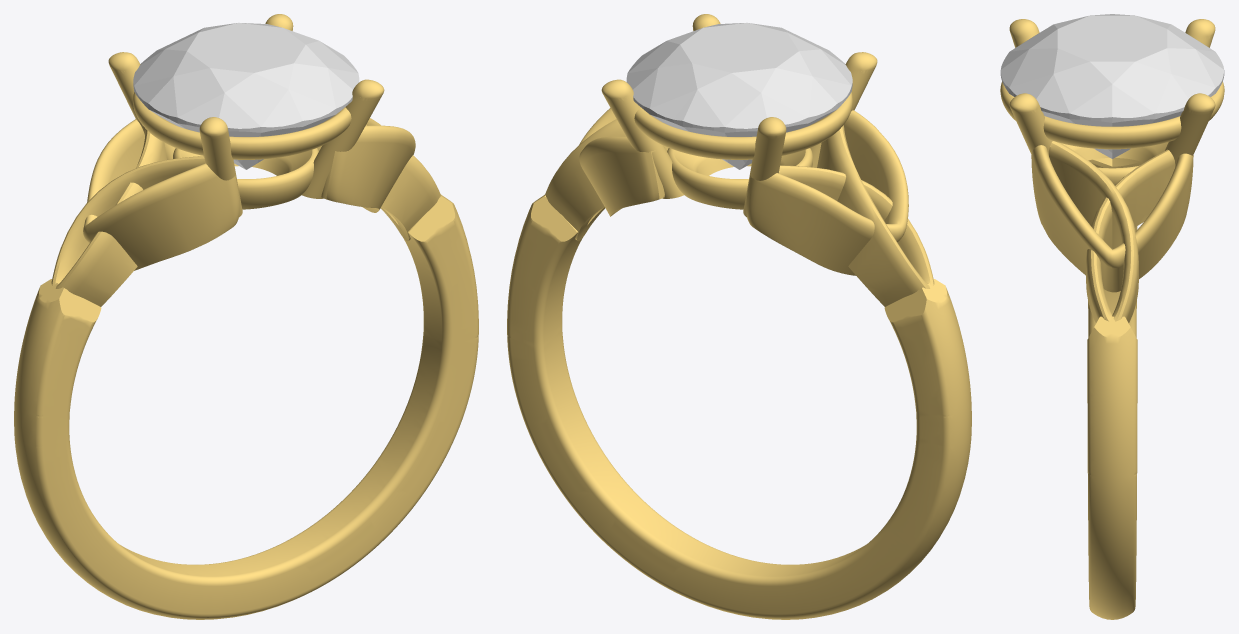
The model's file is SteveYGtriquetra.glb.
3 renders of one model, left to right at view 1: azimuth 30°, elevation 25°; view 2: azimuth 150°, elevation 25°; view 3: azimuth 270°, elevation 25°, orthographic.
Visible parts, largest first — view 1: Steve PT for 3d model, Steve dia for 3d model; view 2: Steve PT for 3d model, Steve dia for 3d model; view 3: Steve PT for 3d model, Steve dia for 3d model.
Part boxes in pixels (<box>): Steve PT for 3d model: <box>14,14,478,619</box>; Steve dia for 3d model: <box>133,22,359,169</box>; Steve PT for 3d model: <box>507,14,971,619</box>; Steve dia for 3d model: <box>626,22,852,169</box>; Steve PT for 3d model: <box>1000,19,1224,619</box>; Steve dia for 3d model: <box>1000,14,1224,158</box>.
Bounding box in the file's own units: 20.6 × 24.41 × 8.92.
